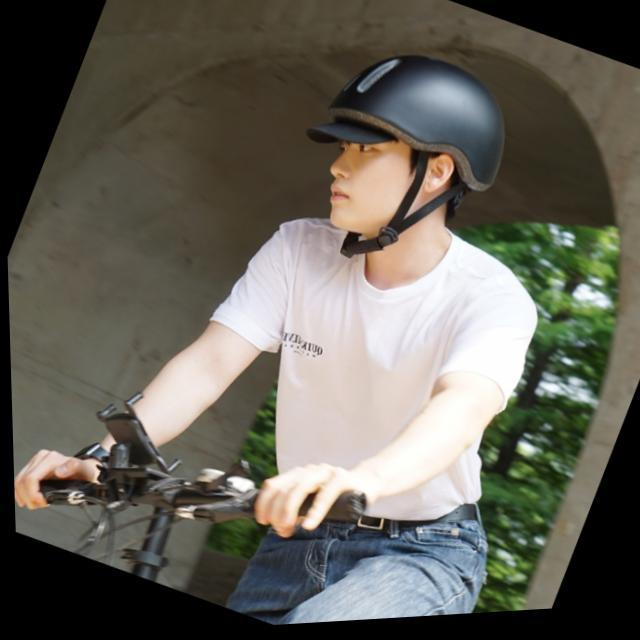Helmet: (288, 35, 510, 262)
